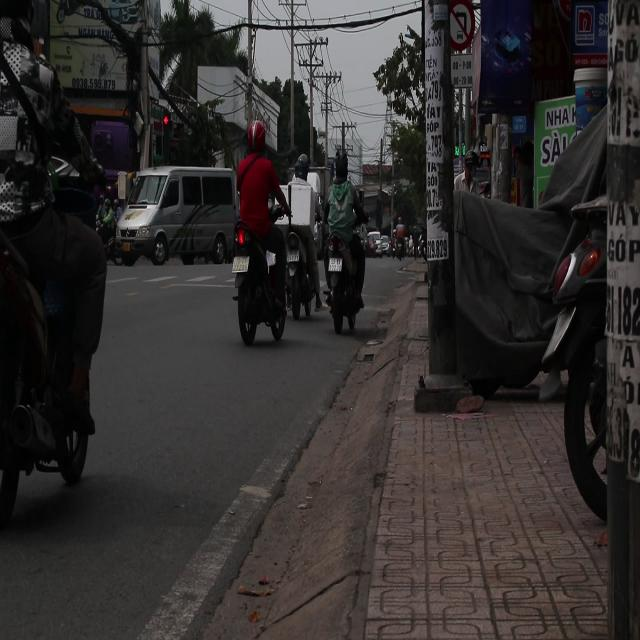car: (112, 165, 235, 266), (368, 232, 392, 258)
motorbike: (233, 216, 292, 348), (314, 215, 370, 342), (275, 178, 322, 318)
